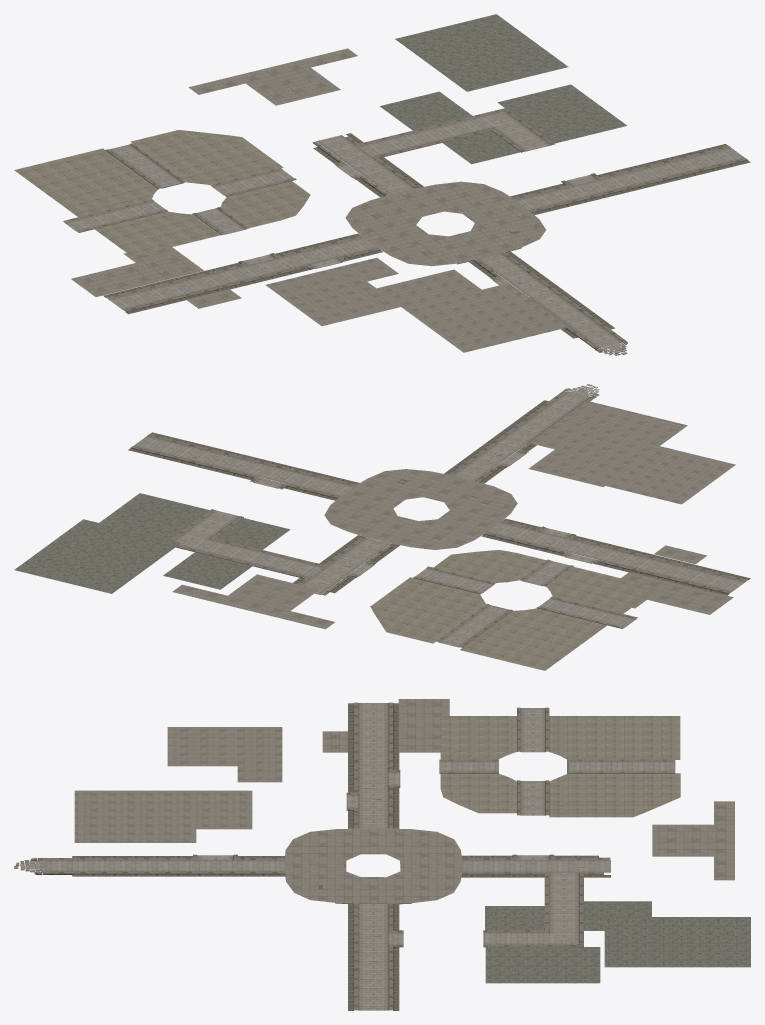
The model's file is dixing01_56_01_3319out.fbx.
3 views of the same model, one above another, from view 1: azimuth 30°, elevation 25°; view 2: azimuth 150°, elevation 25°; view 3: azimuth 270°, elevation 25° (orthographic). The views are drawn at different scales.
Visible parts, largest first — view 1: Plane001; view 2: Plane001; view 3: Plane001.
Part boxes in pixels (x1,y1,x2,y2): Plane001: [14, 14, 750, 355]; Plane001: [14, 384, 750, 670]; Plane001: [14, 699, 750, 1010].
Bounding box in the file's own units: 124 × 5.39 × 124.
